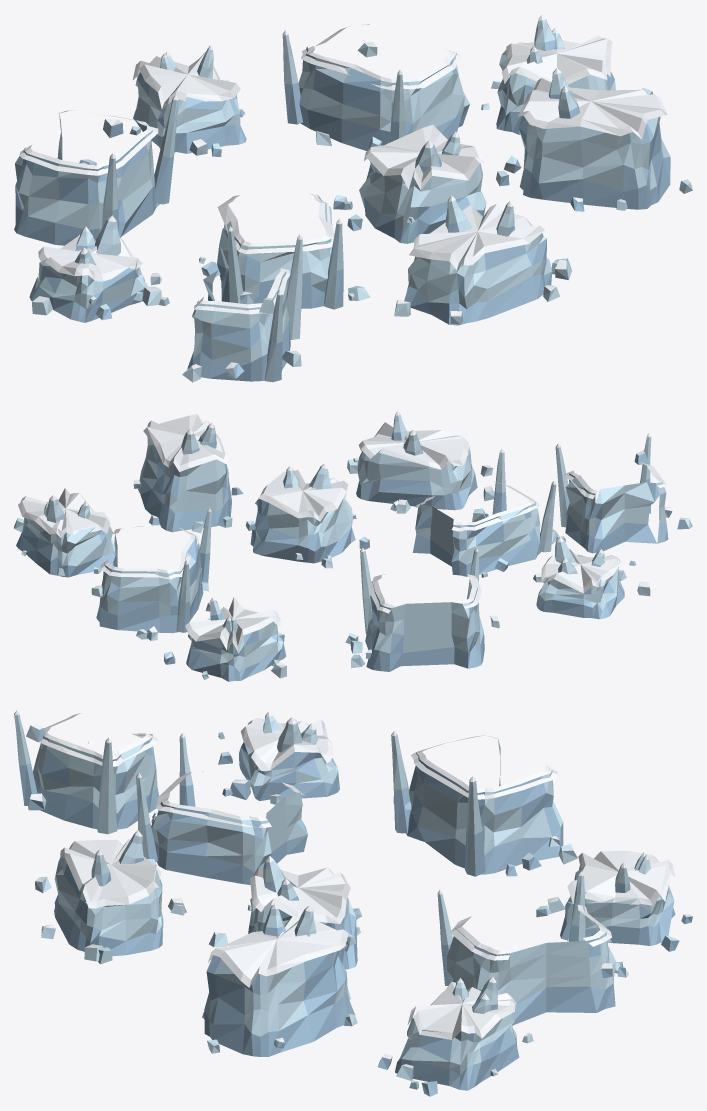
The picture shows the model from 3 angles, top to bottom: view 1: azimuth 30°, elevation 25°; view 2: azimuth 150°, elevation 25°; view 3: azimuth 270°, elevation 25°; orthographic projection. The views are drawn at different scales.
Parts seen in each view (by area): view 1: Mesh_L2A_SeracSkins; view 2: Mesh_L2A_SeracSkins; view 3: Mesh_L2A_SeracSkins.
Part boxes in pixels (x1,y1,x2,y2): Mesh_L2A_SeracSkins: (14,14,692,382); Mesh_L2A_SeracSkins: (14,411,692,681); Mesh_L2A_SeracSkins: (14,710,692,1096).
Bounding box in the file's own units: 66.53 × 11.06 × 55.88.
